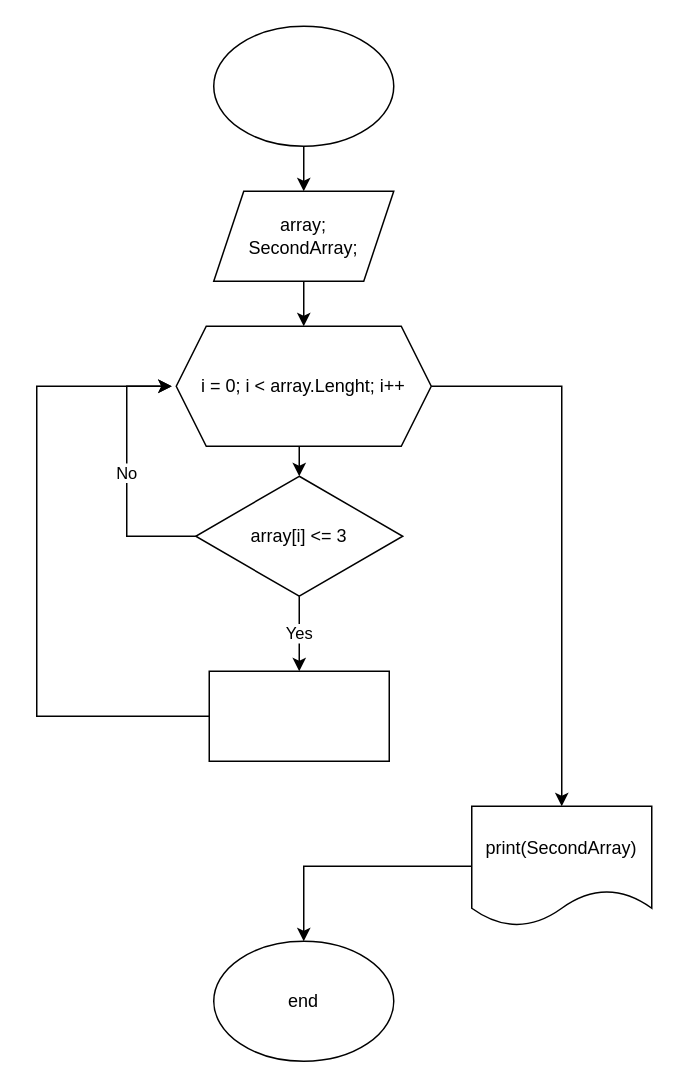
The diagram is 678 pixels wide and 1088 high, and some of its shapes have lost their labels. The shapes that lost their labels are listed below. From the top down, each one's box as (x1, y1, x2, y2) in pixels, then its label:
(212, 25, 394, 146): start
(208, 670, 389, 761): SecondArray[i] = array[i]
